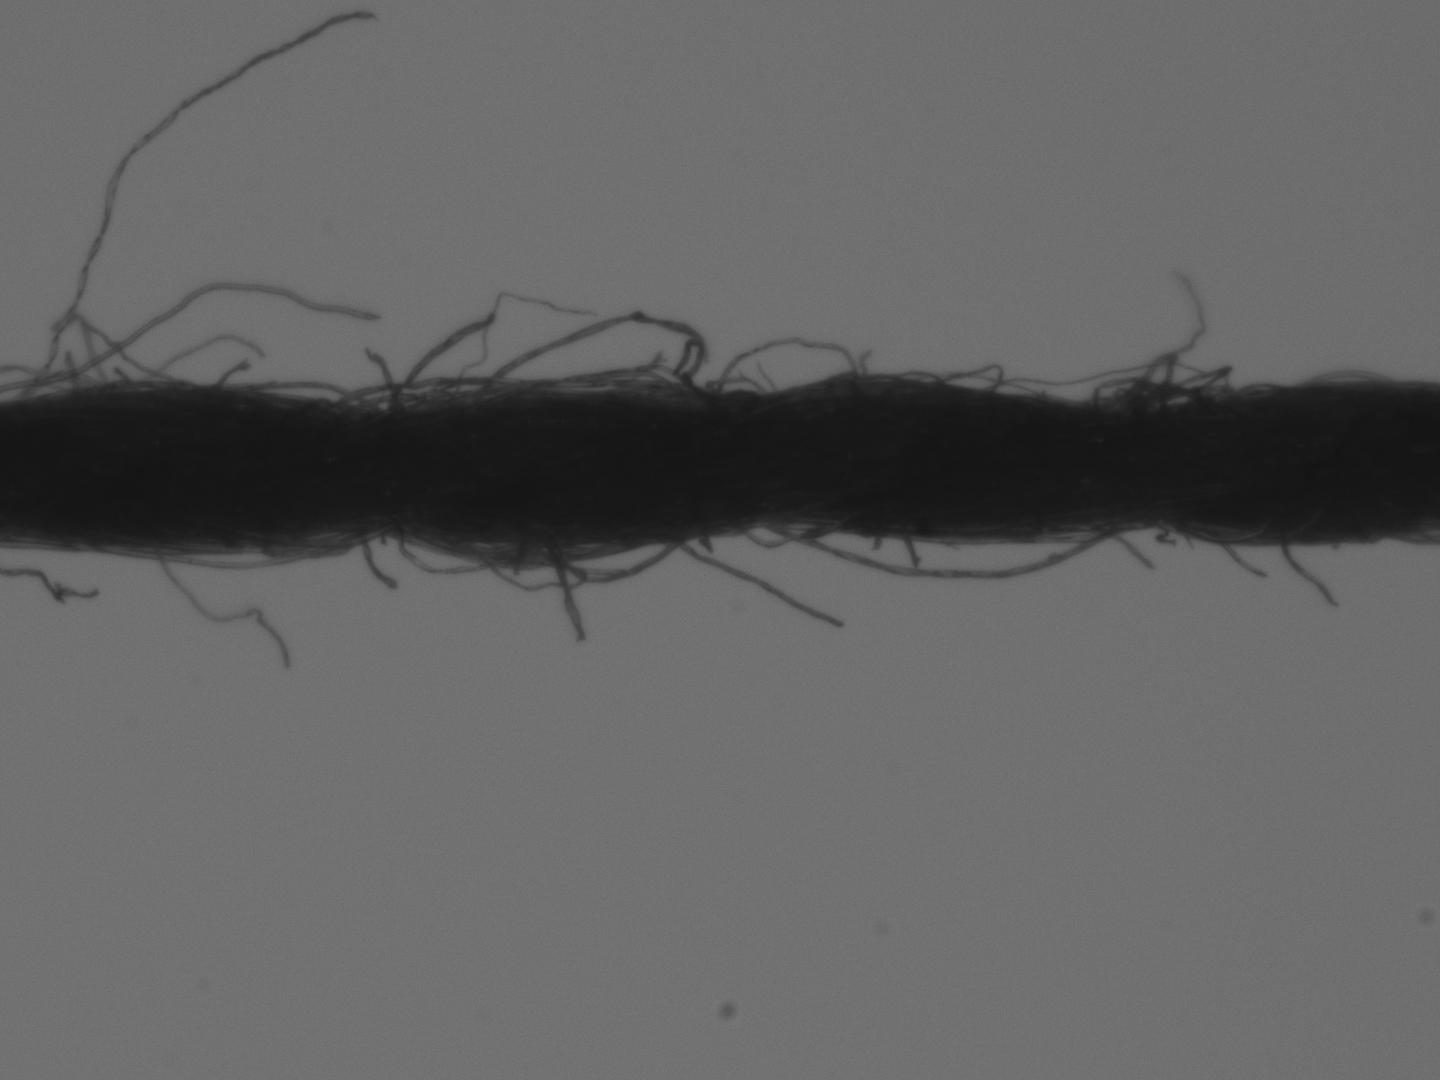loop_fiber: (753, 513, 1140, 585), (464, 306, 708, 405), (413, 528, 692, 596), (703, 332, 863, 413), (1084, 346, 1243, 417), (232, 376, 379, 405), (257, 529, 387, 558), (736, 520, 842, 548), (937, 362, 1003, 389)
protruding_fiber: (22, 1, 375, 402), (659, 531, 842, 634)
